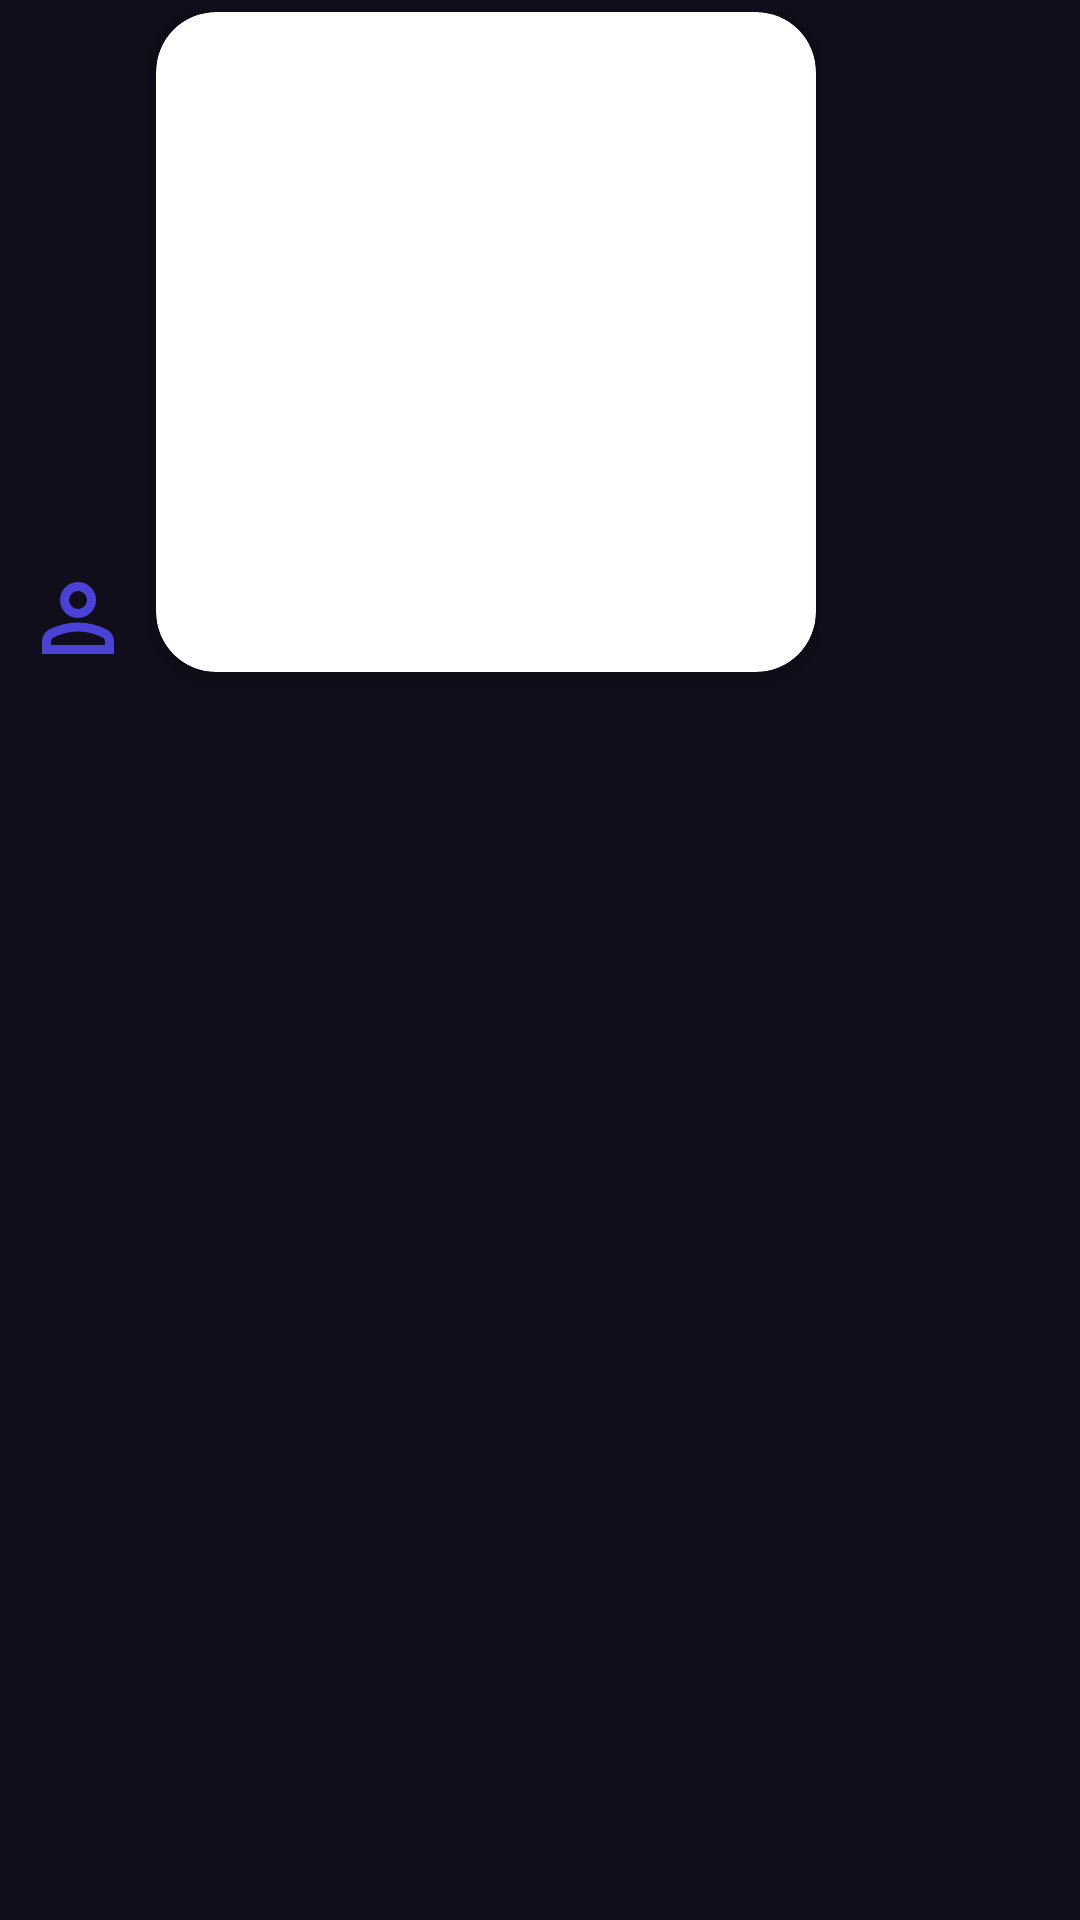

Point at icon controls on the screen. Image size 1080w x 1920h, points as [x,y].
Profile picture: [78,618]
